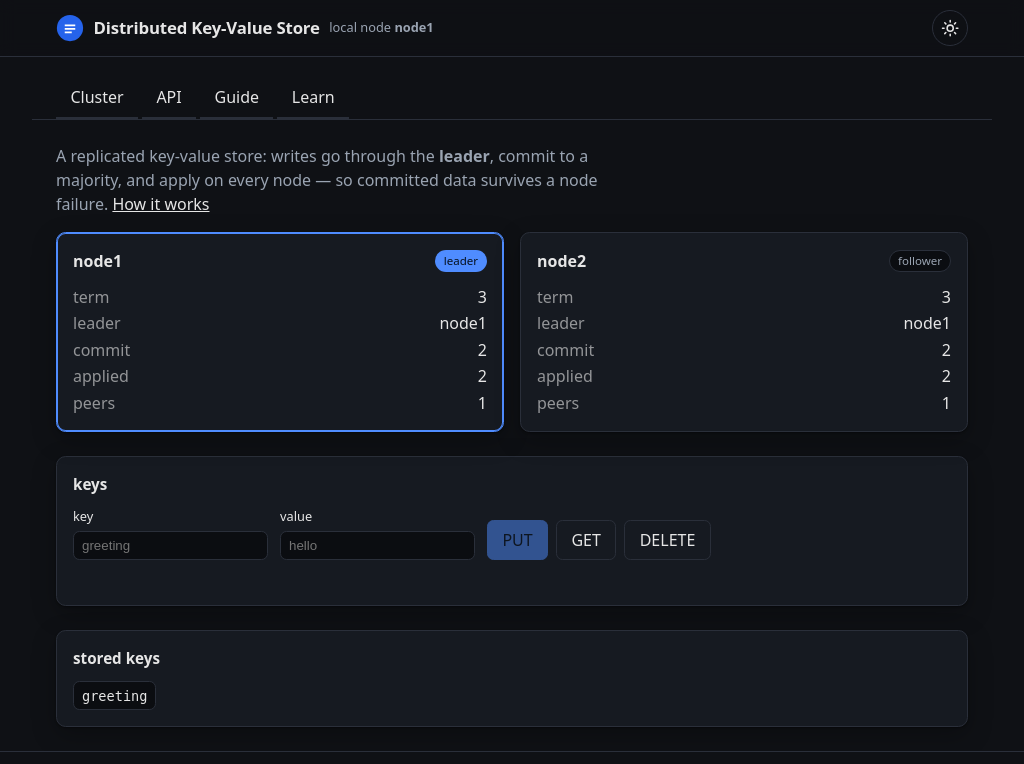
Scenario: App › shows the Learn tab with the theoretical foundations
Click the button "Learn".
click(313, 98)  # box [277,77,349,119]
(page scrolled)
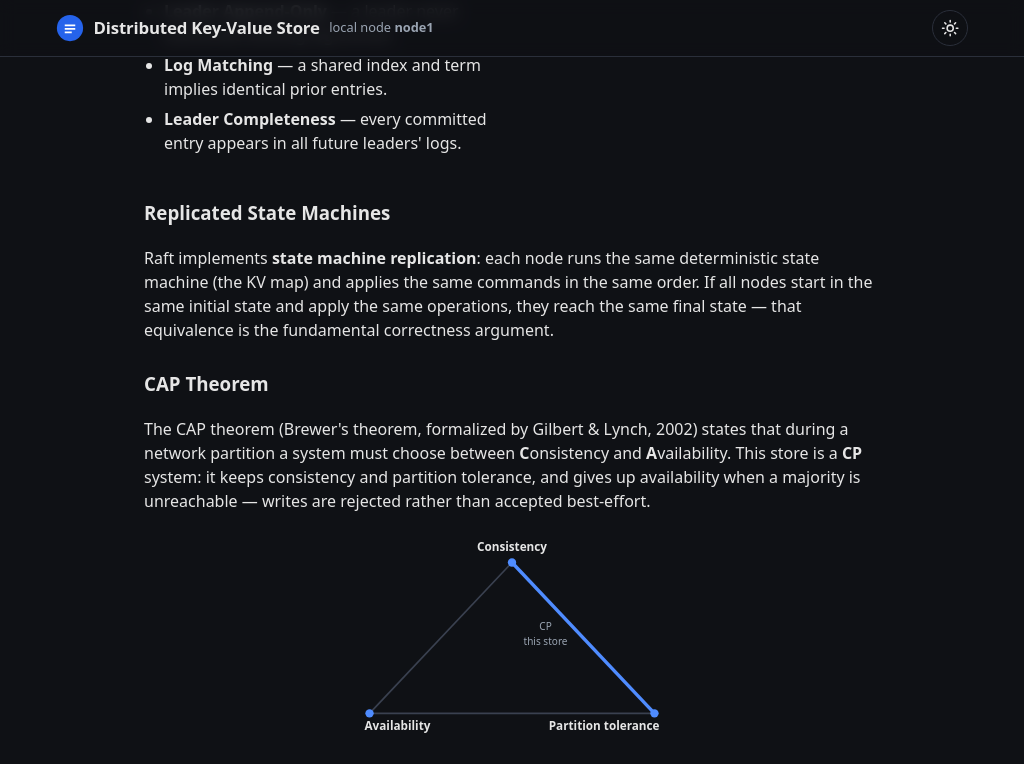
Expected: the heading "Guide" is not shown
Expected: the heading "CAP Theorem" is shown, [144,371,269,396]
